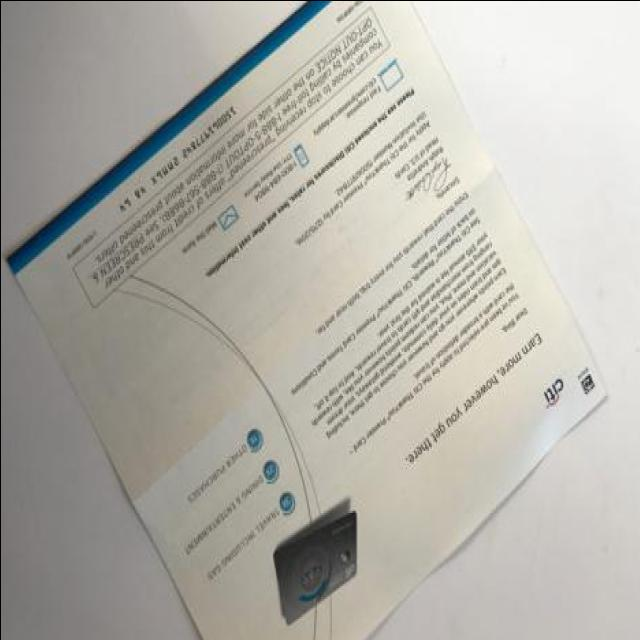kertas: (0, 0, 610, 640)
